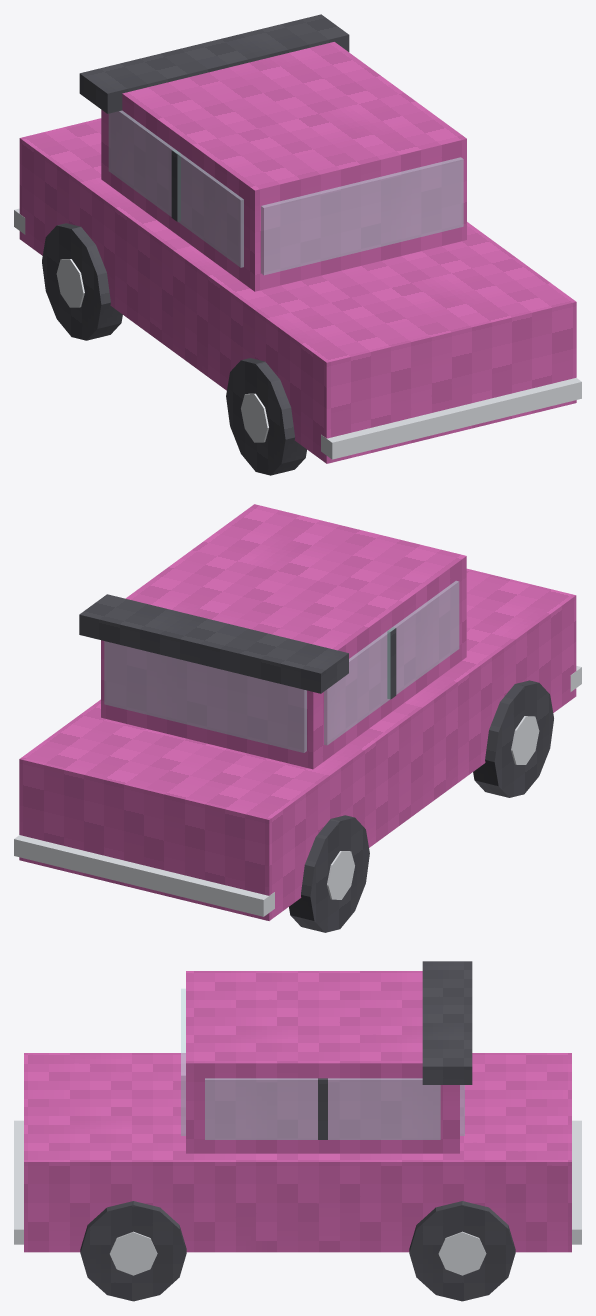
The model's file is retro-arcade-and-mall-1989-compact-hatchback-f7edae27__15548.glb.
3 views of the same model, one above another, from view 1: azimuth 30°, elevation 25°; view 2: azimuth 150°, elevation 25°; view 3: azimuth 270°, elevation 25° (orthographic). The views are drawn at different scales.
Parts seen in each view (by area): view 1: compact-hatchback; view 2: compact-hatchback; view 3: compact-hatchback.
Boxes of the visible parts, x1,y1,x2,y2 form: compact-hatchback: (14,14,581,475); compact-hatchback: (14,504,581,932); compact-hatchback: (14,961,581,1301).
Bounding box in the file's own units: 1.69 × 1.52 × 3.42.
Materials: 4 (2 with a texture image).
